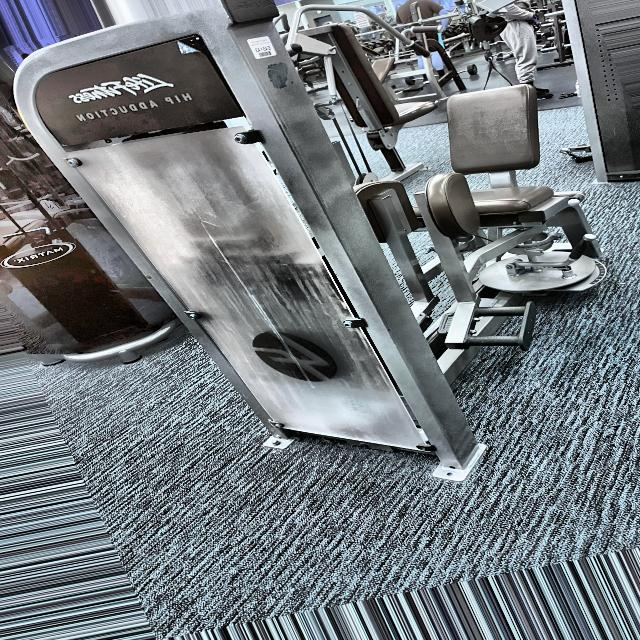hip_adduction_machine: (389, 32, 611, 390), (64, 84, 198, 145)
